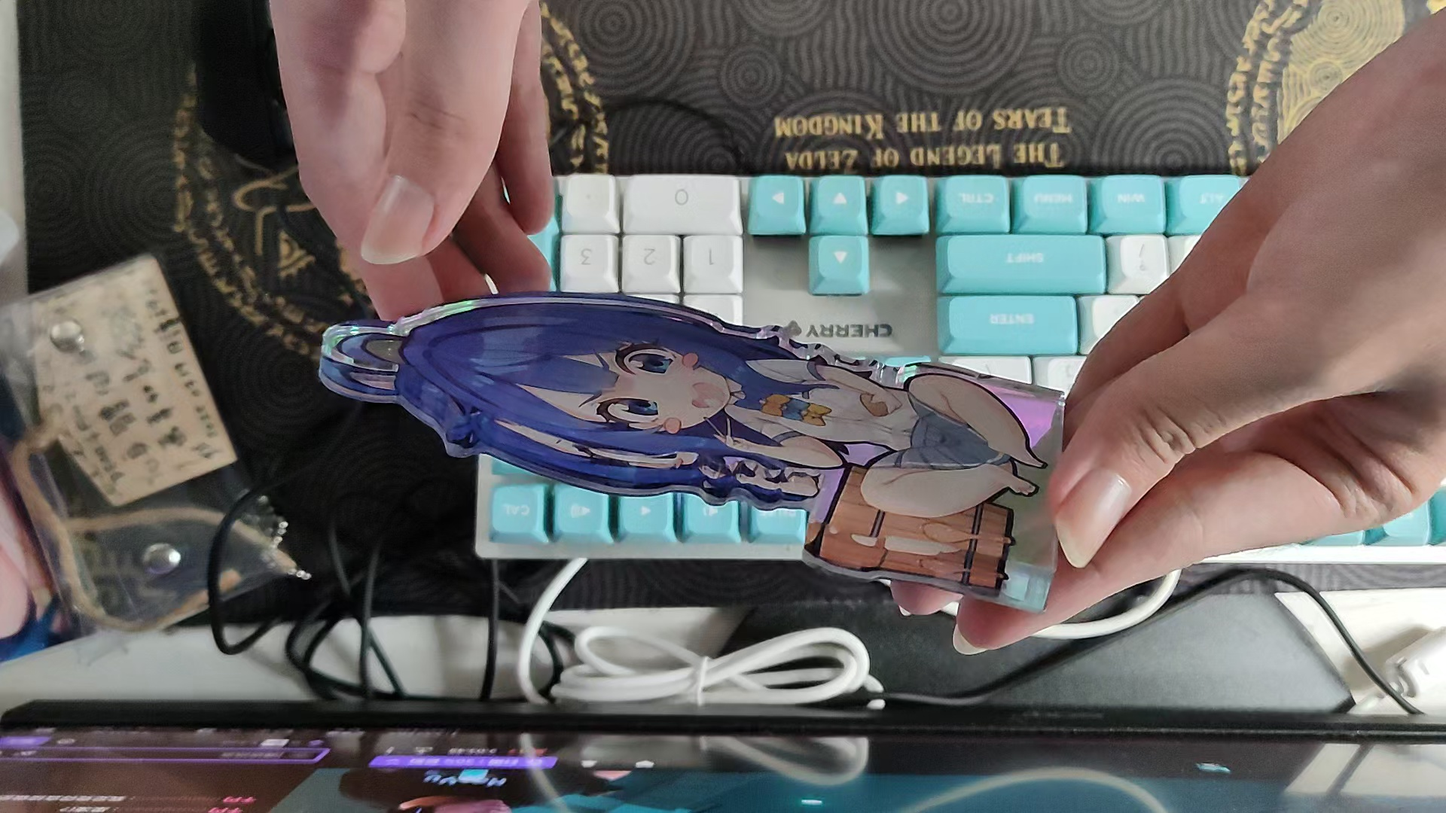Yanami-anna: (319, 289, 1066, 615)
